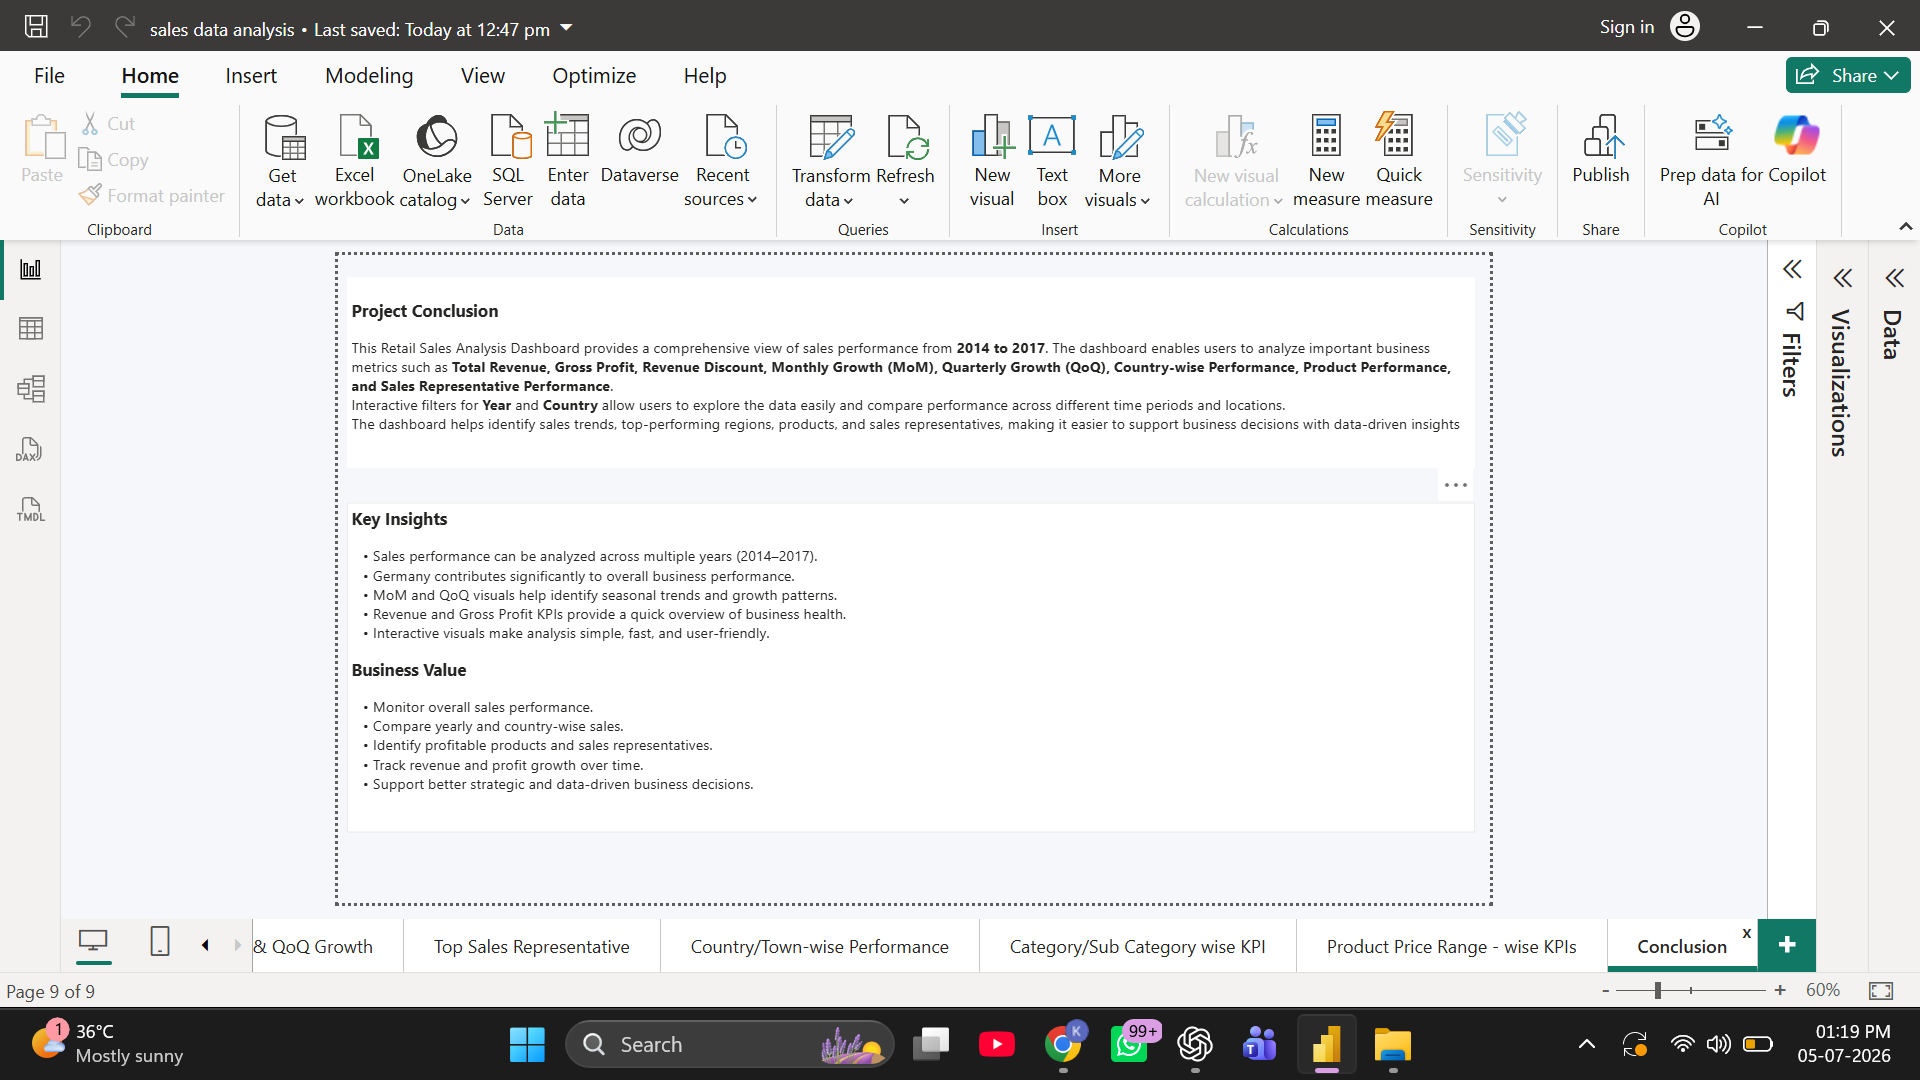

The page's visual inventory and layout, read from the dashboard file:
{"tool":"powerbi","page":{"name":"Conclusion","canvas":[1280,720],"ordinal":8},"visuals":[{"type":"textbox","box":[9.7,24.3,1253.3,212.1],"z":0},{"type":"textbox","box":[9.7,275.3,1253.3,365.9],"z":1000}]}

Visuals, with their boxes on the page's 1280x720 design canvas (x1, y1, x2, y2). These are canvas units, not pixel positions in the 1920x1080 screenshot, which may show the page scaled, cropped or inside an application window:
textbox: <box>10,24,1263,236</box>
textbox: <box>10,275,1263,641</box>
